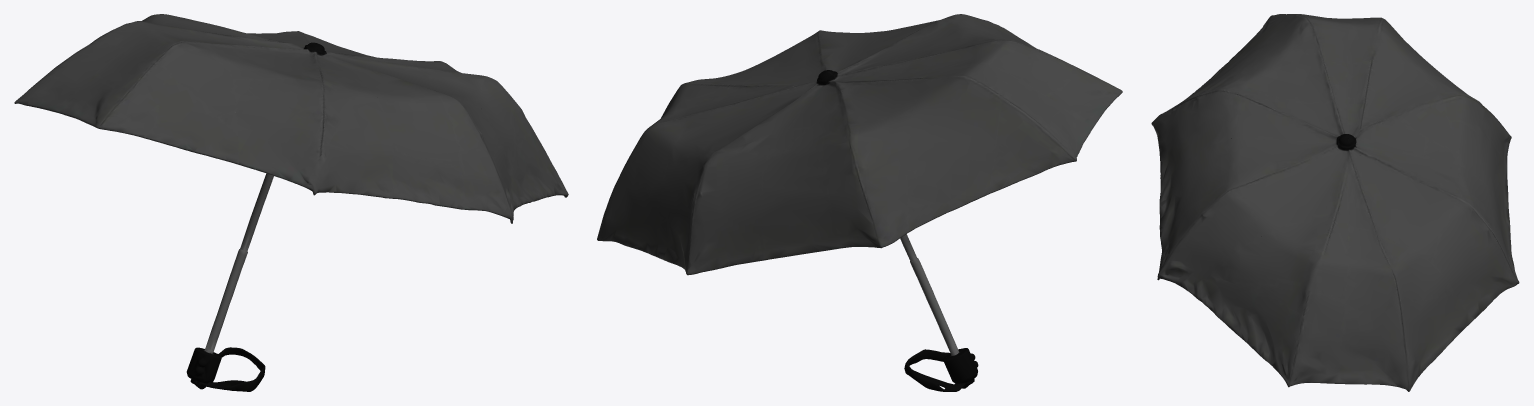
3 renders of one model, left to right at view 1: azimuth 30°, elevation 25°; view 2: azimuth 150°, elevation 25°; view 3: azimuth 270°, elevation 25°, orthographic. The views are drawn at different scales.
Parts seen in each view (by area): view 1: tripo_node_cf7960aa-689d-411d-94b7-c27f078c1cd4; view 2: tripo_node_cf7960aa-689d-411d-94b7-c27f078c1cd4; view 3: tripo_node_cf7960aa-689d-411d-94b7-c27f078c1cd4.
Boxes of the visible parts, x1,y1,x2,y2 form: tripo_node_cf7960aa-689d-411d-94b7-c27f078c1cd4: (14,14,568,391); tripo_node_cf7960aa-689d-411d-94b7-c27f078c1cd4: (597,14,1122,391); tripo_node_cf7960aa-689d-411d-94b7-c27f078c1cd4: (1151,14,1519,391).
Size of the model in its own units: 1 by 0.6898 by 0.7347.
Materials: 1 (1 with a texture image).
